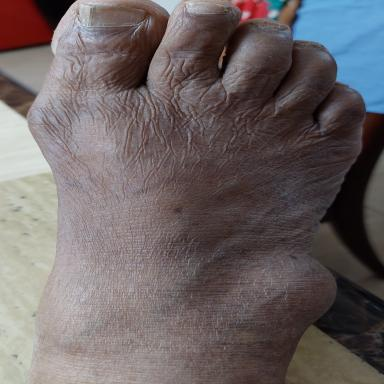normal skin: (28, 0, 365, 384)
